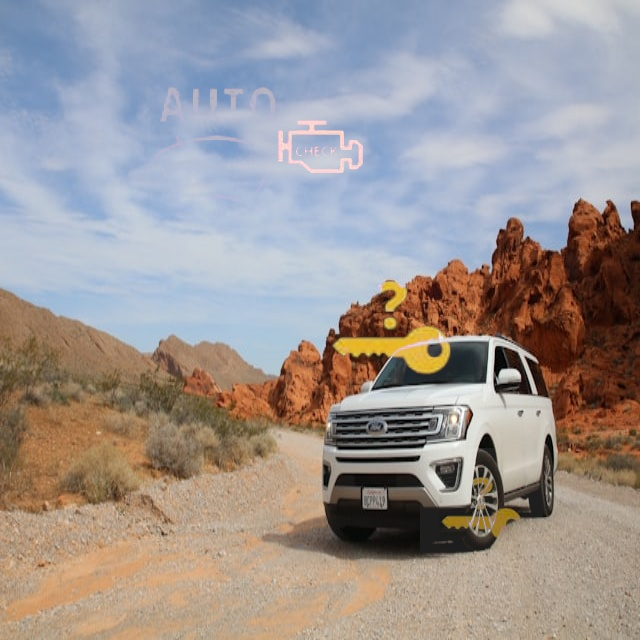symbol: (113, 49, 322, 258), (301, 238, 481, 418), (257, 85, 382, 210), (420, 448, 543, 571)
